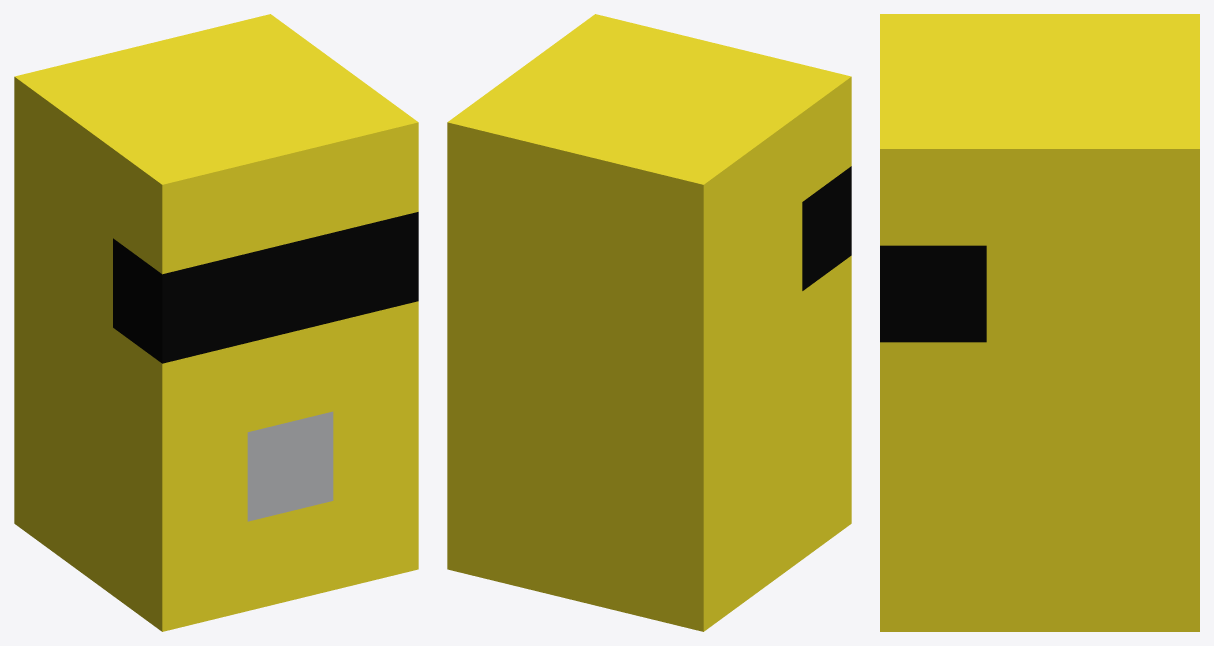
Rendered from trashcan_d.obj.
3 renders of one model, left to right at view 1: azimuth 30°, elevation 25°; view 2: azimuth 150°, elevation 25°; view 3: azimuth 270°, elevation 25°, orthographic. The views are drawn at different scales.
Size of the model in its own units: 0.3 by 0.5 by 0.3.
1 material, 1 textured.
